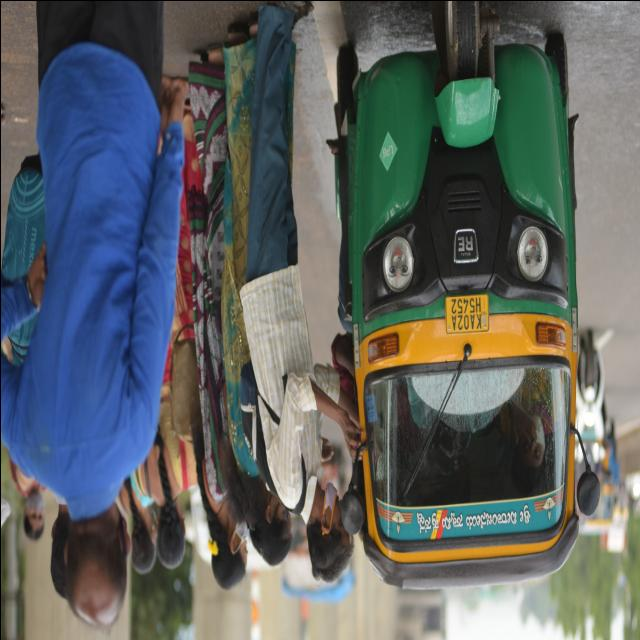Autorickshaw: (327, 12, 594, 590)
